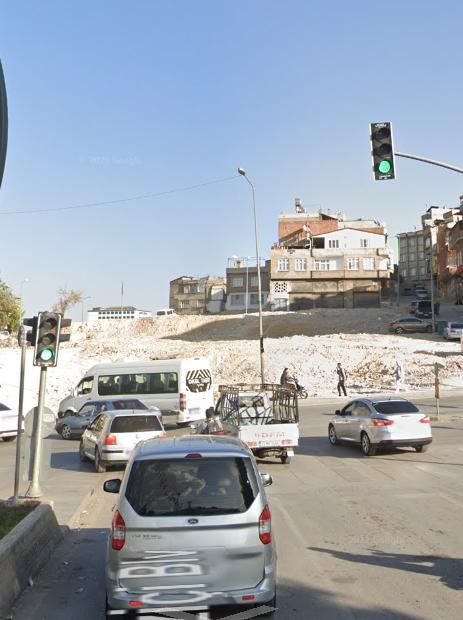greenlight: (34, 311, 56, 368), (373, 122, 391, 179)
